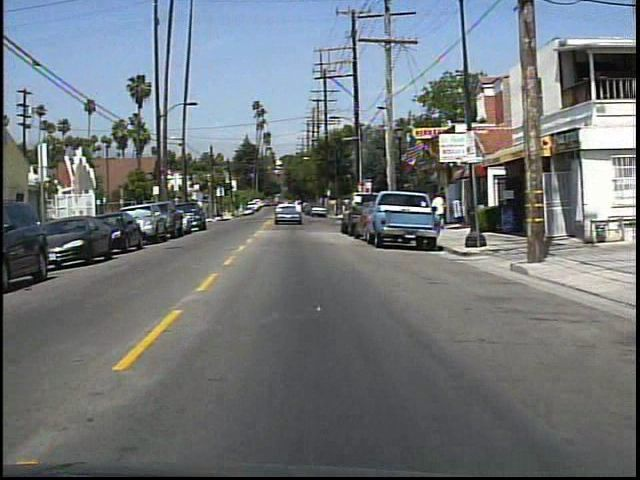person: (431, 190, 450, 230)
